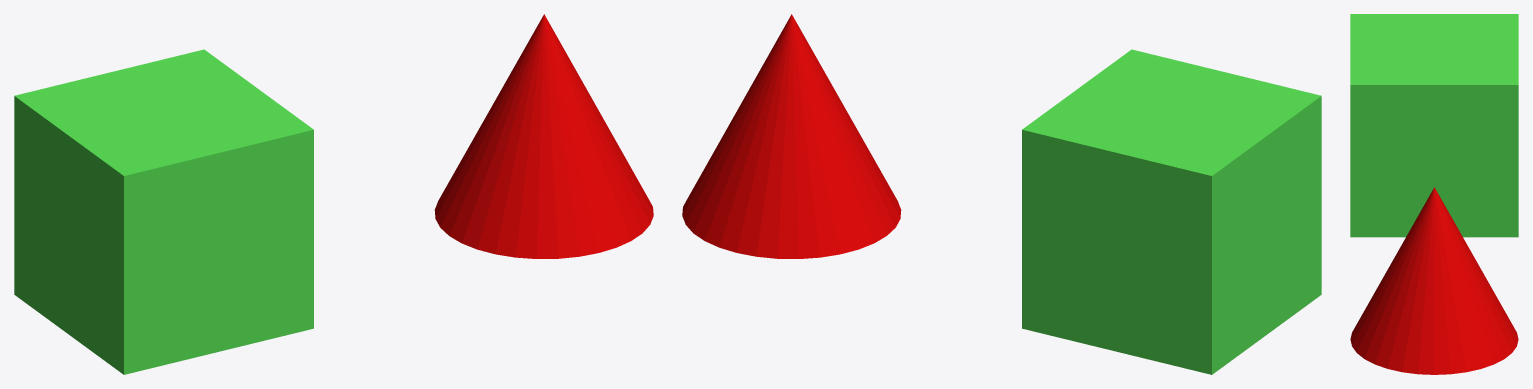
Rendered from Visible.glb.
3 renders of one model, left to right at view 1: azimuth 30°, elevation 25°; view 2: azimuth 150°, elevation 25°; view 3: azimuth 270°, elevation 25°, orthographic. The views are drawn at different scales.
Visible parts, largest first — view 1: CubeObject_Visible, ConeObject_invisible; view 2: CubeObject_Visible, ConeObject_invisible; view 3: CubeObject_Visible, ConeObject_invisible.
Part boxes in pixels (x1,y1,x2,y2): CubeObject_Visible: (14,49,313,374); ConeObject_invisible: (434,14,653,258); CubeObject_Visible: (1022,49,1321,374); ConeObject_invisible: (682,14,901,258); CubeObject_Visible: (1350,14,1518,237); ConeObject_invisible: (1350,187,1518,374).
Size of the model in its own units: 3 by 1.03 by 1.
